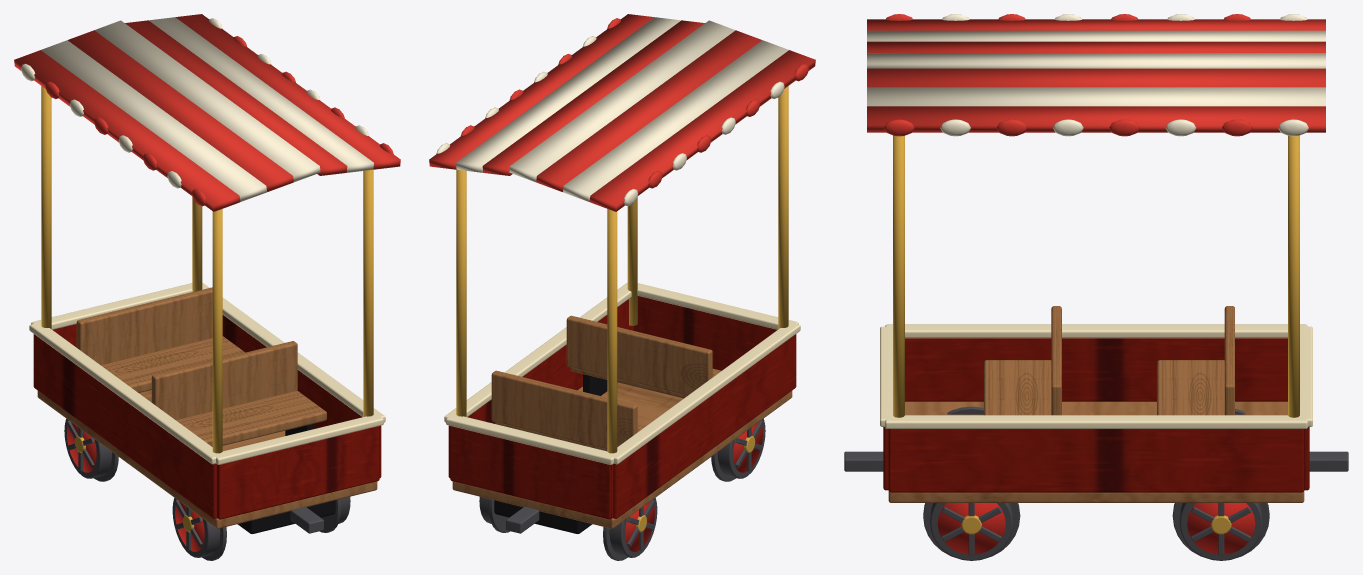
Rendered from railcar.glb.
3 views of the same model, side by side, from view 1: azimuth 30°, elevation 25°; view 2: azimuth 150°, elevation 25°; view 3: azimuth 270°, elevation 25° (orthographic). The views are drawn at different scales.
Parts seen in each view (by area): view 1: rc_side, rc_end, rc_benchback, rc_benchback.001, rc_canopy, rc_canopy.003, rc_canopy.002, rc_canopy.001, rc_canopy.005, rc_canopy.006, rc_canopy.004, rc_bench (+17 smaller); view 2: rc_side, rc_end.001, rc_benchback.001, rc_benchback, rc_canopy, rc_canopy.003, rc_canopy.002, rc_canopy.001, rc_end, rc_canopy.005, rc_canopy.006, rc_floor (+17 smaller); view 3: rc_side.001, rc_side, rc_canopy.006, rc_canopy.004, rc_canopy.005, rc_floor, rc_canopy.003, rc_sidecap.001, rc_canopy.001, rc_canopy.002, rc_sidecap, rc_canopy (+16 smaller).
Boxes of the visible parts, left/top/right/bottom form: rc_side: left=33, top=334, right=216, bottom=518; rc_end: left=217, top=426, right=379, bottom=519; rc_benchback: left=151, top=341, right=297, bottom=419; rc_benchback.001: left=76, top=287, right=212, bottom=365; rc_canopy: left=14, top=50, right=240, bottom=211; rc_canopy.003: left=94, top=20, right=320, bottom=182; rc_canopy.002: left=68, top=30, right=293, bottom=191; rc_canopy.001: left=41, top=40, right=266, bottom=201; rc_canopy.005: left=149, top=17, right=373, bottom=172; rc_canopy.006: left=175, top=14, right=400, bottom=169; rc_canopy.004: left=125, top=20, right=347, bottom=175; rc_bench: left=176, top=390, right=326, bottom=446; rc_side: left=613, top=334, right=796, bottom=518; rc_end.001: left=450, top=426, right=612, bottom=519; rc_benchback.001: left=491, top=370, right=637, bottom=449; rc_benchback: left=566, top=315, right=712, bottom=395; rc_canopy: left=589, top=50, right=815, bottom=211; rc_canopy.003: left=509, top=20, right=735, bottom=182; rc_canopy.002: left=536, top=30, right=761, bottom=191; rc_canopy.001: left=563, top=40, right=788, bottom=201; rc_end: left=633, top=296, right=776, bottom=370; rc_canopy.005: left=456, top=17, right=680, bottom=172; rc_canopy.006: left=429, top=14, right=654, bottom=169; rc_floor: left=452, top=382, right=792, bottom=528; rc_side.001: left=888, top=429, right=1304, bottom=492; rc_side: left=905, top=338, right=1287, bottom=401; rc_canopy.006: left=867, top=106, right=1325, bottom=132; rc_canopy.004: left=867, top=68, right=1325, bottom=87; rc_canopy.005: left=867, top=87, right=1325, bottom=106; rc_floor: left=888, top=401, right=1304, bottom=502; rc_canopy.003: left=867, top=53, right=1325, bottom=68; rc_sidecap.001: left=885, top=415, right=1307, bottom=428; rc_canopy.001: left=867, top=30, right=1325, bottom=41; rc_canopy.002: left=867, top=41, right=1325, bottom=52; rc_sidecap: left=885, top=324, right=1307, bottom=338; rc_canopy: left=867, top=19, right=1325, bottom=30.
Size of the model in its own units: 1.49 by 3 by 2.91.
9 materials, 2 textured.
